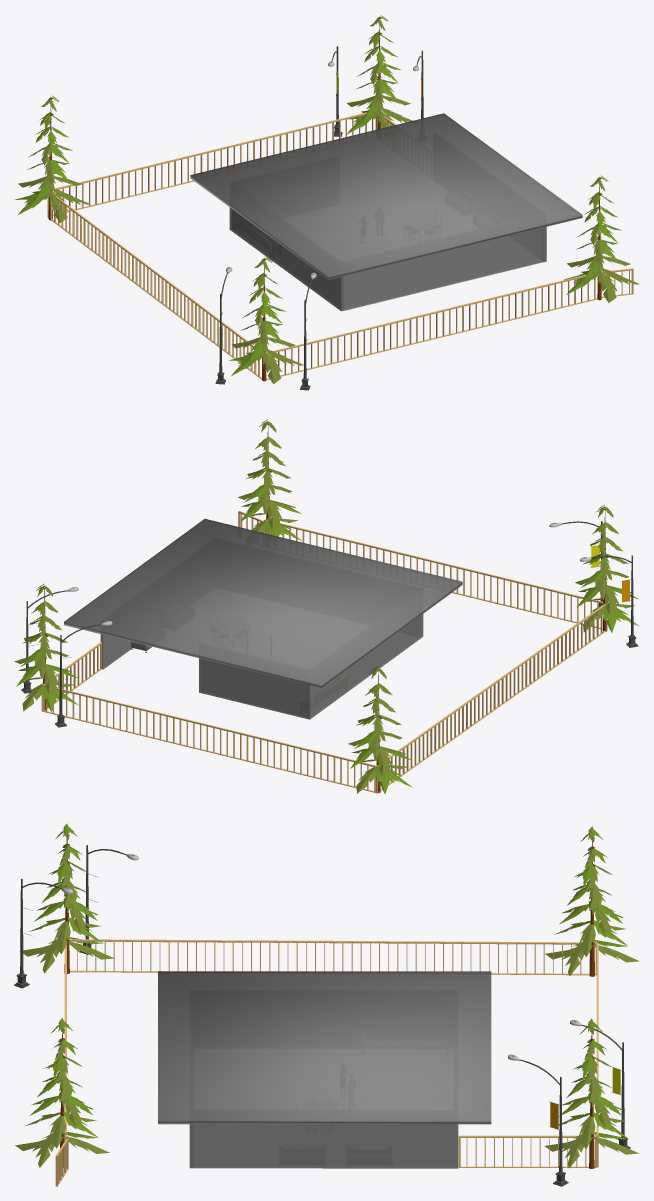
Rendered from demo1.gltf.
3 views of the same model, one above another, from view 1: azimuth 30°, elevation 25°; view 2: azimuth 150°, elevation 25°; view 3: azimuth 270°, elevation 25° (orthographic). The views are drawn at different scales.
Parts seen in each view (by area): view 1: house, Runner_Overhead (×3), Runner_Stud; view 2: house, Runner_Overhead (×3), Runner_Stud; view 3: house, Runner_Overhead, Runner_Stud.
Boxes of the visible parts, x1,y1,x2,y2 form: house: (190,113,582,311); Runner_Overhead (×3): (55,112,585,353); Runner_Stud: (266,298,597,379); house: (64,519,462,719); Runner_Overhead (×3): (41,519,605,766); Runner_Stud: (41,710,375,792); house: (158,971,491,1168); Runner_Overhead: (69,939,597,943); Runner_Stud: (69,941,596,944).
Size of the model in its own units: 25.27 by 7.41 by 27.8.
30 materials, 1 textured.
